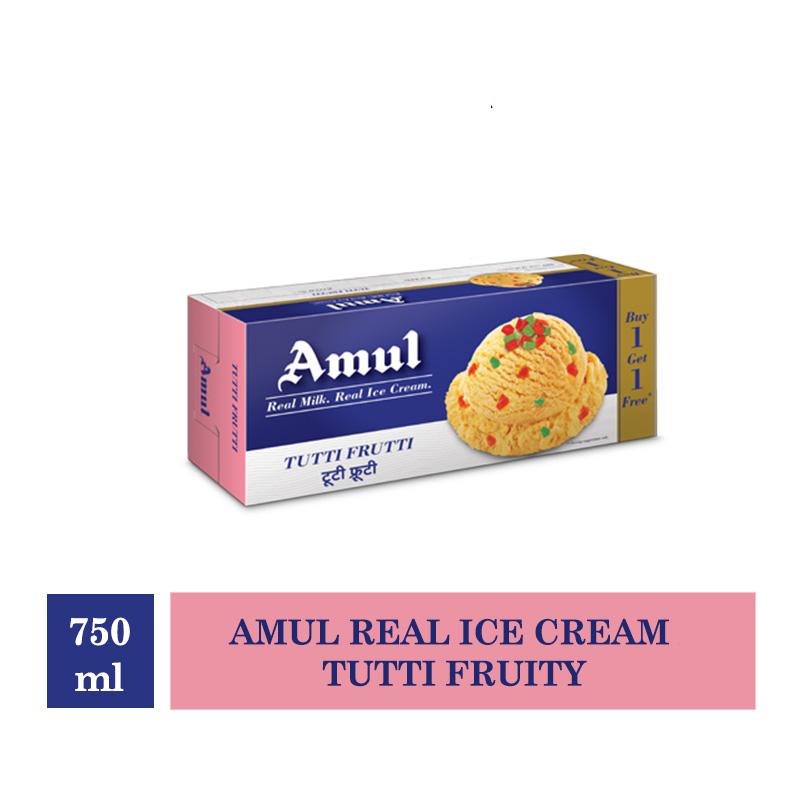Amul: (270, 318, 433, 397), (188, 345, 216, 425)
